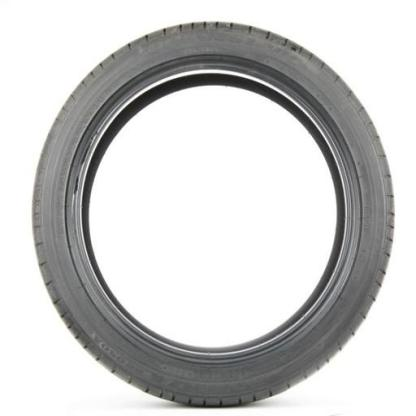Tire: (29, 19, 397, 410)
